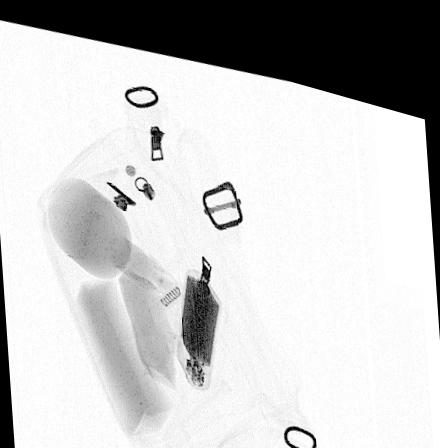Powerbank: (176, 256, 223, 378)
